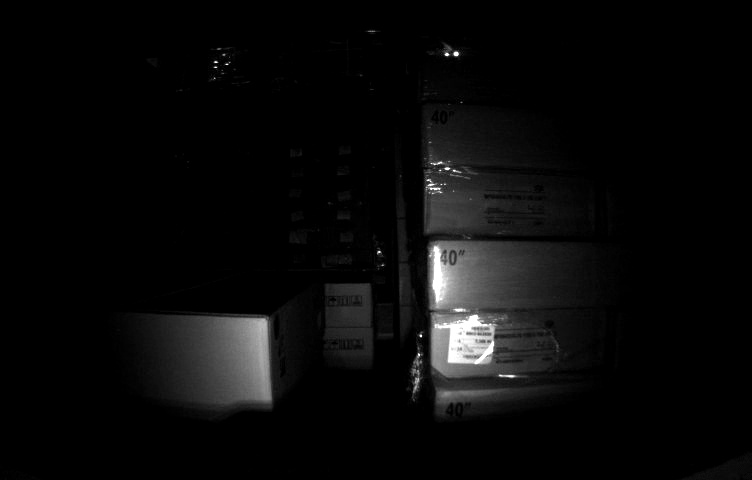True Barcode: (449, 321, 495, 363)
